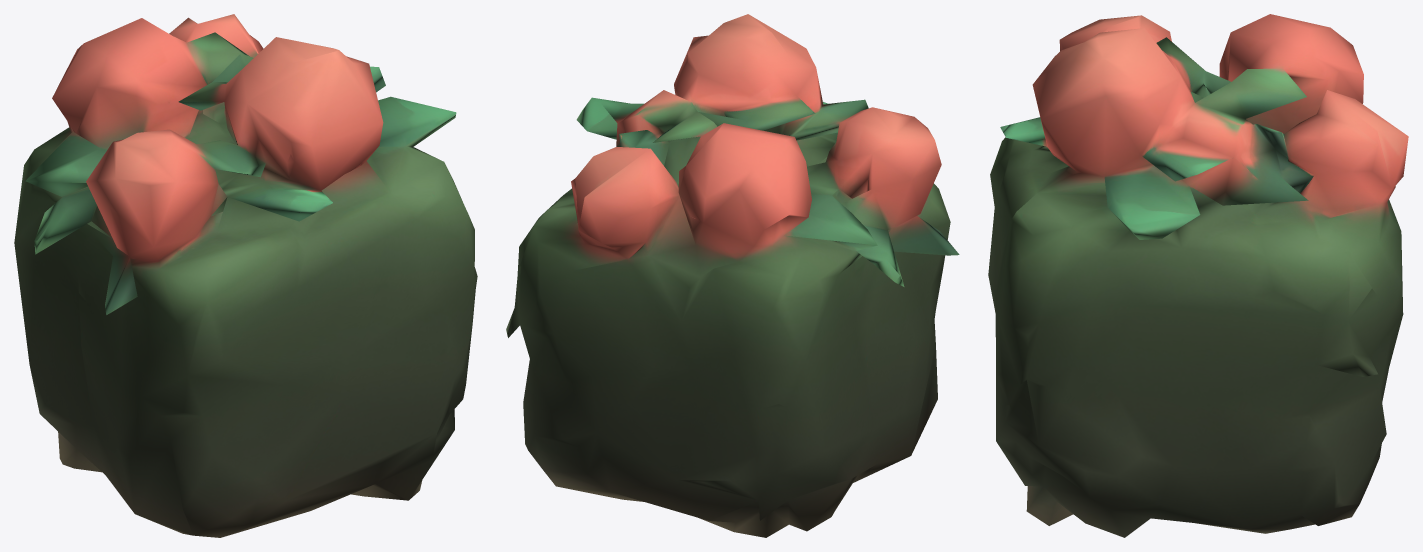
3 views of the same model, side by side, from view 1: azimuth 30°, elevation 25°; view 2: azimuth 150°, elevation 25°; view 3: azimuth 270°, elevation 25° (orthographic). The views are drawn at different scales.
Visible parts, largest first — view 1: tripo_node_c7d59009-d5c4-4464-935a-297c31cc1a89; view 2: tripo_node_c7d59009-d5c4-4464-935a-297c31cc1a89; view 3: tripo_node_c7d59009-d5c4-4464-935a-297c31cc1a89.
Boxes of the visible parts, x1,y1,x2,y2 form: tripo_node_c7d59009-d5c4-4464-935a-297c31cc1a89: [14, 14, 477, 537]; tripo_node_c7d59009-d5c4-4464-935a-297c31cc1a89: [506, 14, 959, 537]; tripo_node_c7d59009-d5c4-4464-935a-297c31cc1a89: [988, 14, 1408, 537].
Size of the model in its own units: 0.9008 by 1 by 0.8416.
1 material, 1 textured.
